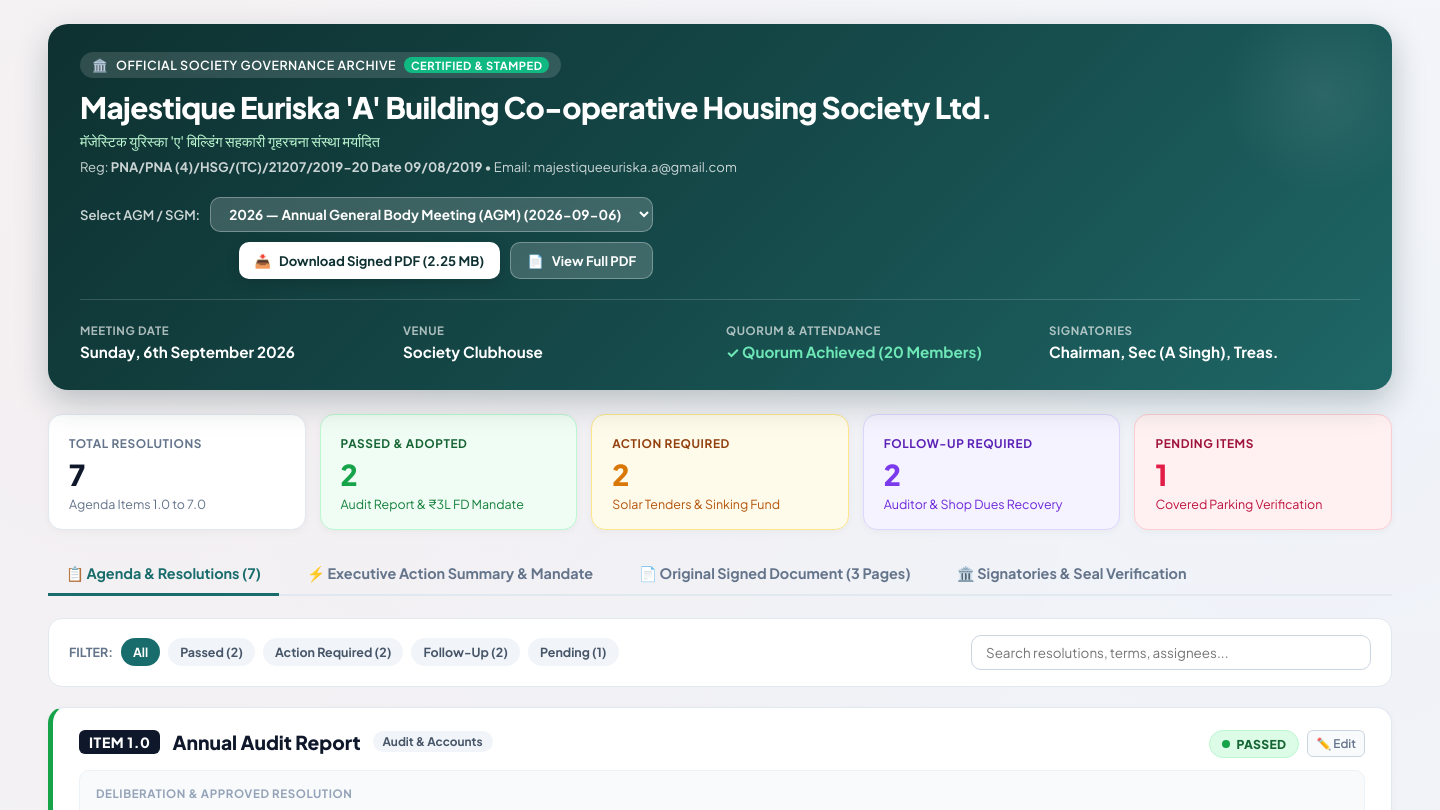
AgmMeetingTracker Component › switches to Society Signatories & Seal Verification tab
Click the button "🏛️ Signatories & Seal Verification": (1072, 575) 939,554 -> 1204,596
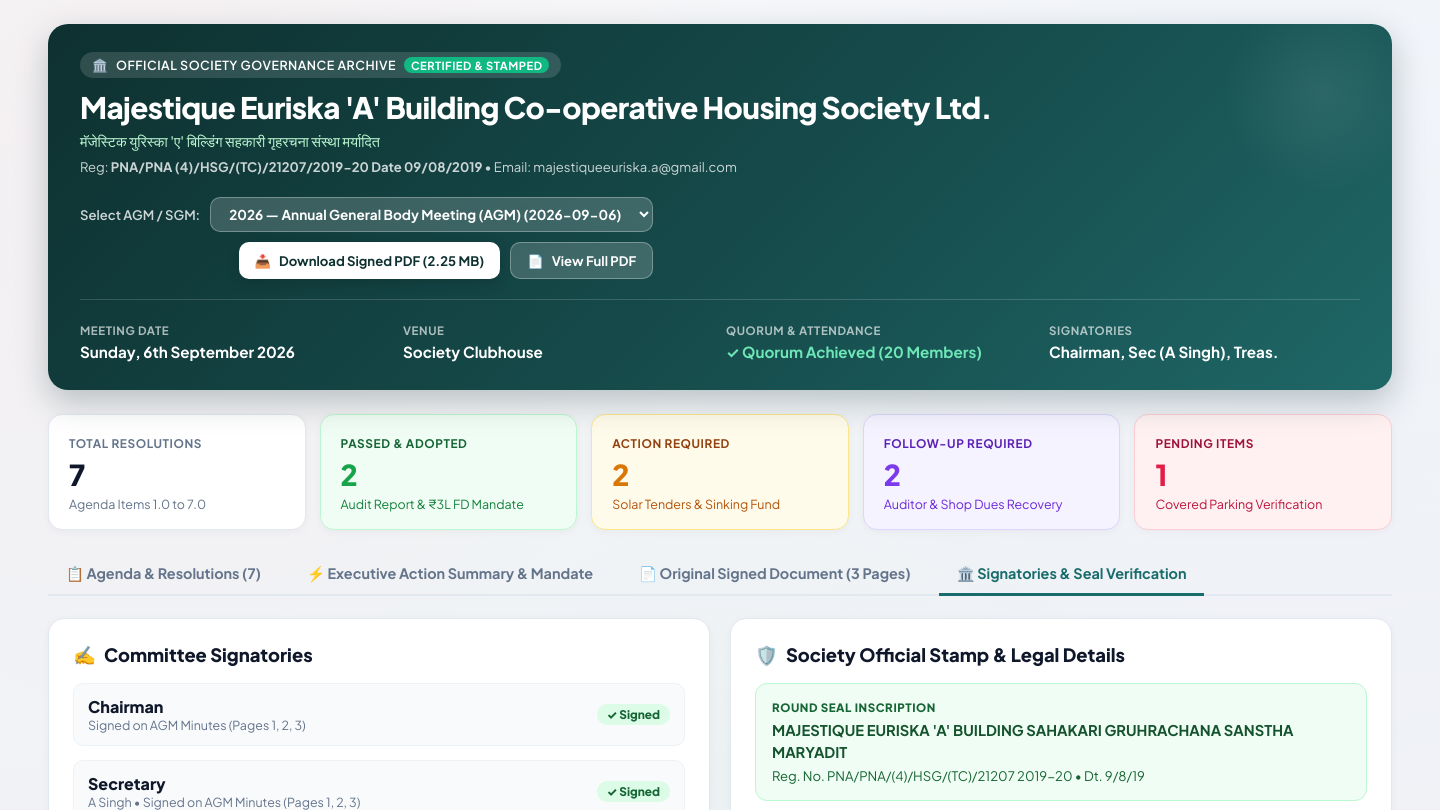
Result: the heading "✍️ Committee Signatories" is shown at 73,643 -> 313,666
Result: the text "A Singh • Signed on AGM Minutes (Pages 1, 2, 3)" is shown at 88,794 -> 360,809
Result: the heading "🛡️ Society Official Stamp & Legal Details" is shown at 755,643 -> 1125,666
